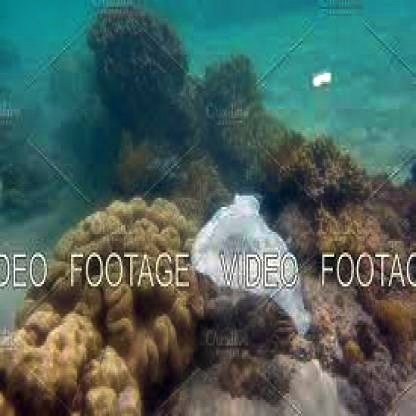pbag: (183, 186, 313, 339)
